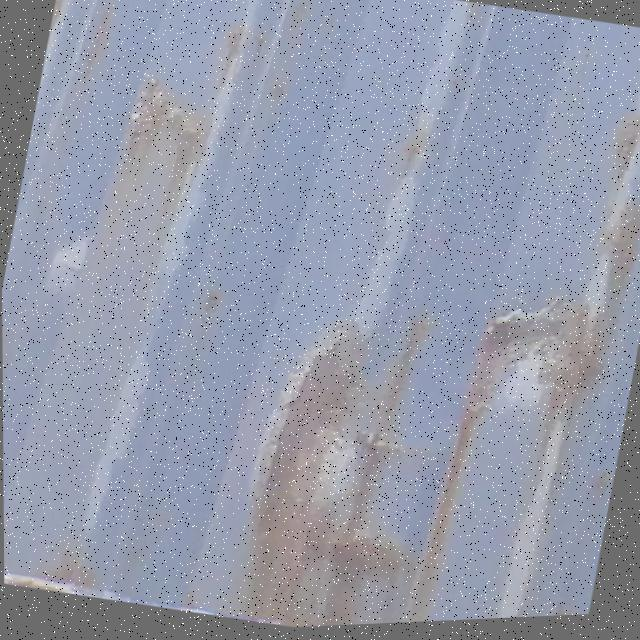rust: (182, 300, 490, 635)
